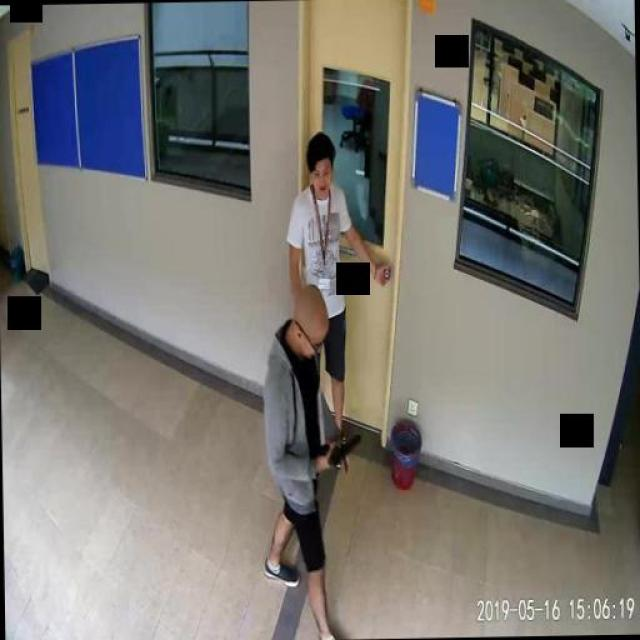gun: (319, 432, 359, 467)
